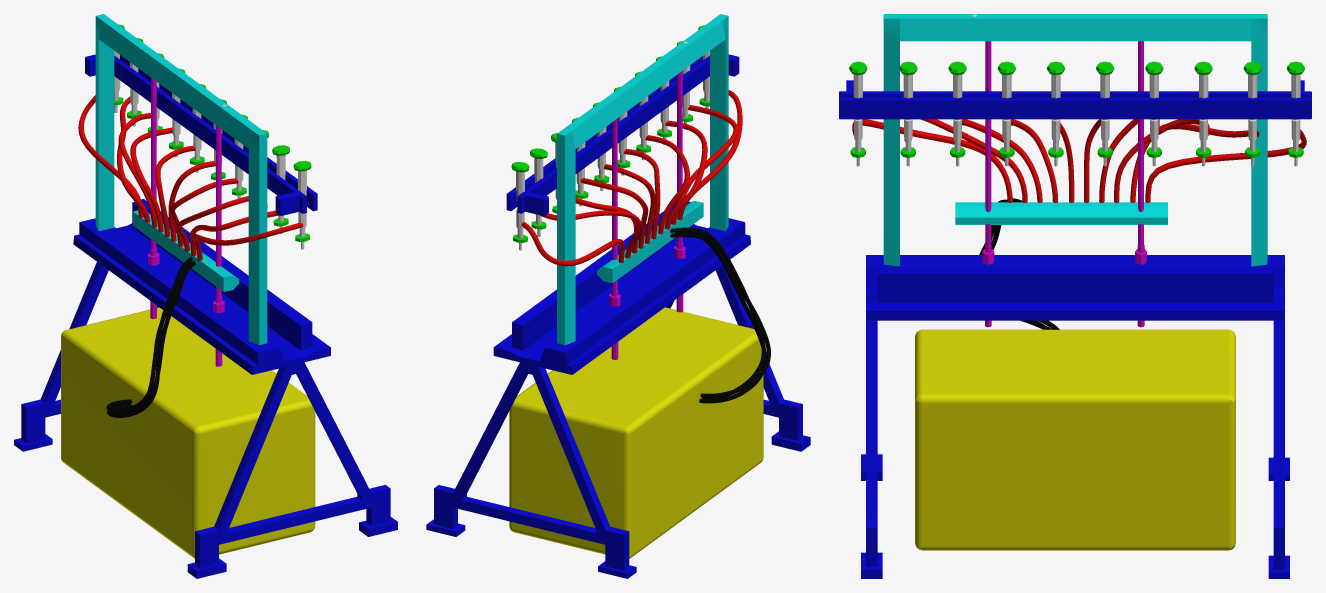
The model's file is mac_PC.fbx.
3 views of the same model, side by side, from view 1: azimuth 30°, elevation 25°; view 2: azimuth 150°, elevation 25°; view 3: azimuth 270°, elevation 25° (orthographic). The views are drawn at different scales.
Visible parts, largest first — view 1: machine_PC_tri; view 2: machine_PC_tri; view 3: machine_PC_tri.
Boxes of the visible parts, x1,y1,x2,y2 form: machine_PC_tri: (14, 14, 397, 578); machine_PC_tri: (426, 14, 810, 578); machine_PC_tri: (839, 14, 1311, 578).
Size of the model in its own units: 2.43 by 4.5 by 3.86.
